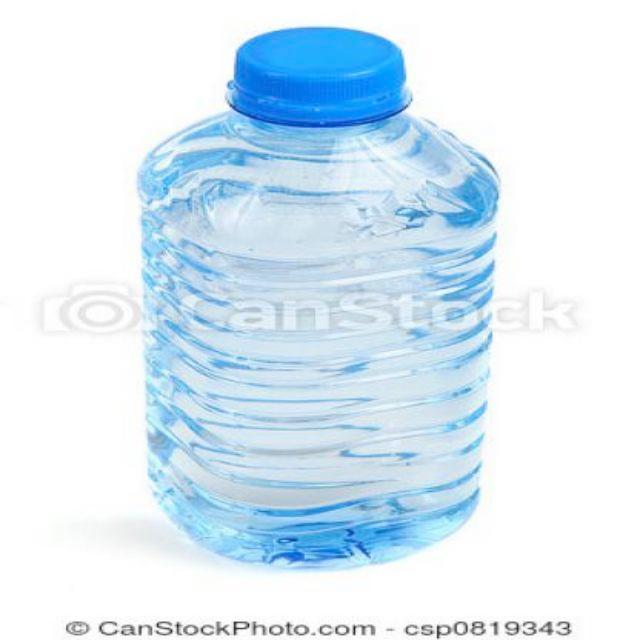bottle: (137, 27, 501, 571)
